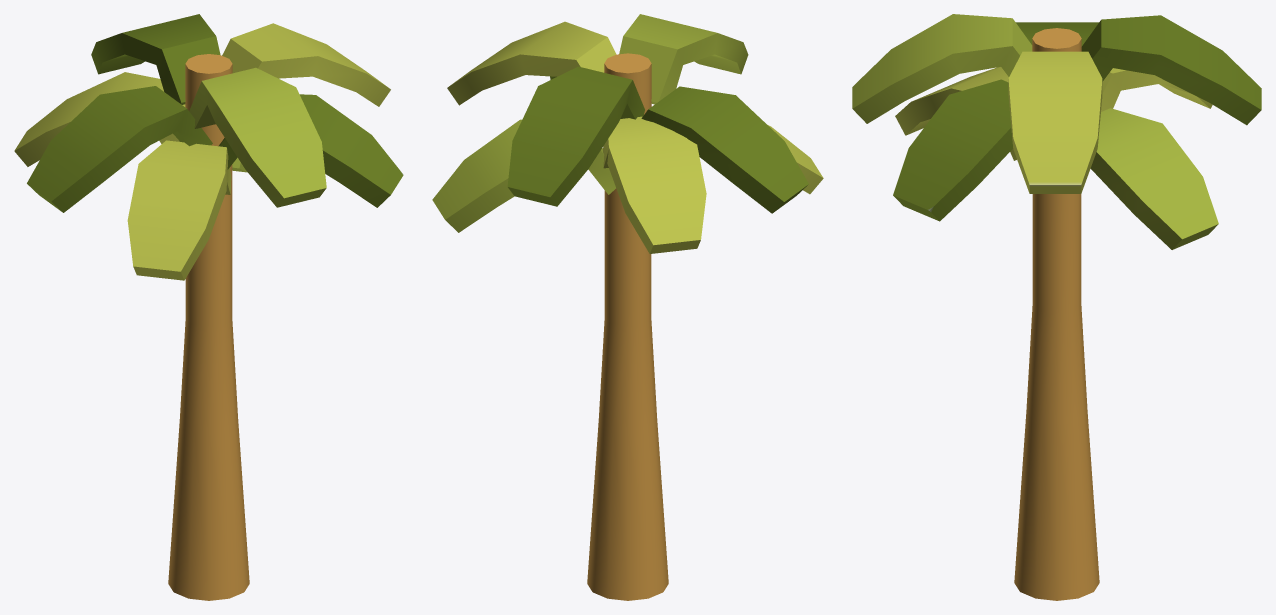
The model's file is tree_plam.fbx.
3 views of the same model, side by side, from view 1: azimuth 30°, elevation 25°; view 2: azimuth 150°, elevation 25°; view 3: azimuth 270°, elevation 25° (orthographic). The views are drawn at different scales.
Parts seen in each view (by area): view 1: tree_plam; view 2: tree_plam; view 3: tree_plam.
Boxes of the visible parts, x1=… form: tree_plam: x1=14, y1=14, x2=403, y2=600; tree_plam: x1=432, y1=14, x2=823, y2=600; tree_plam: x1=852, y1=14, x2=1261, y2=600.
Size of the model in its own units: 317 by 317 by 470.
